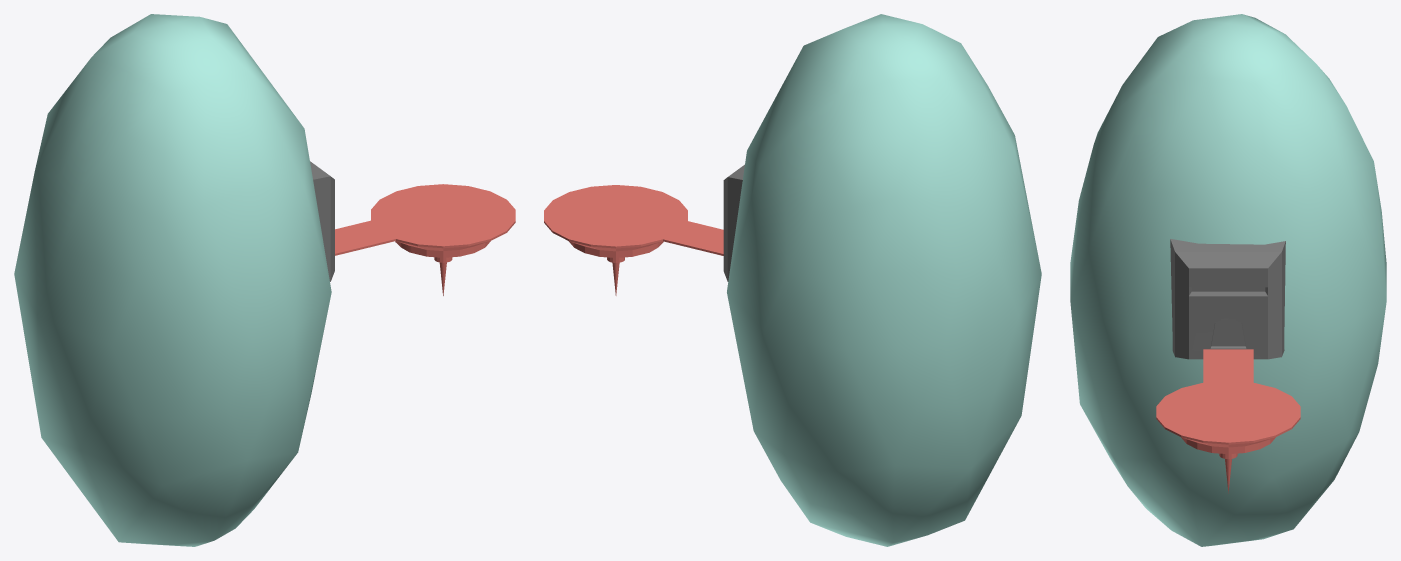
The model's file is Space_Station_V2.fbx.
The picture shows the model from 3 angles, left to right: view 1: azimuth 30°, elevation 25°; view 2: azimuth 150°, elevation 25°; view 3: azimuth 270°, elevation 25°; orthographic projection.
Parts seen in each view (by area): view 1: Icosphere, Circle, Cube.008; view 2: Icosphere, Circle, Cube.008; view 3: Icosphere, Cube.008, Circle.
Part boxes in pixels (x1=…): Icosphere: x1=14, y1=14, x2=331, y2=546; Circle: x1=335, y1=184, x2=515, y2=295; Cube.008: x1=310, y1=161, x2=334, y2=281; Icosphere: x1=727, y1=14, x2=1041, y2=546; Circle: x1=544, y1=185, x2=723, y2=295; Cube.008: x1=723, y1=164, x2=744, y2=281; Icosphere: x1=1070, y1=14, x2=1386, y2=546; Cube.008: x1=1170, y1=239, x2=1285, y2=359; Circle: x1=1156, y1=349, x2=1300, y2=493.
Bounding box in the file's own units: 10739 × 18344 × 19007.
